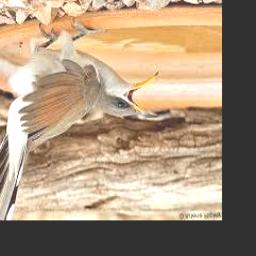Cuckoo: (0, 23, 159, 220)
